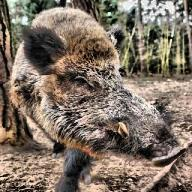boar: (8, 6, 186, 192)
